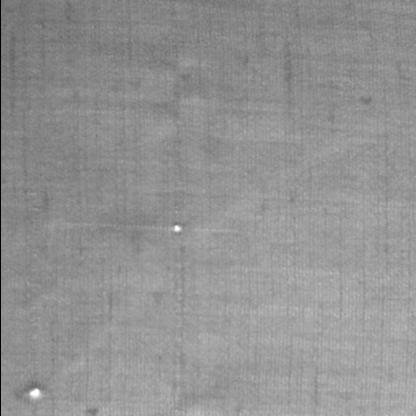hole: (24, 386, 44, 400), (170, 224, 184, 235)
